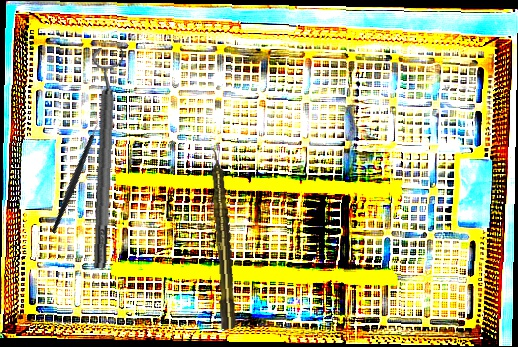Chopper: (16, 112, 133, 234)
Fixation Ring: (81, 47, 127, 269)
Handpiece: (207, 147, 238, 330)
